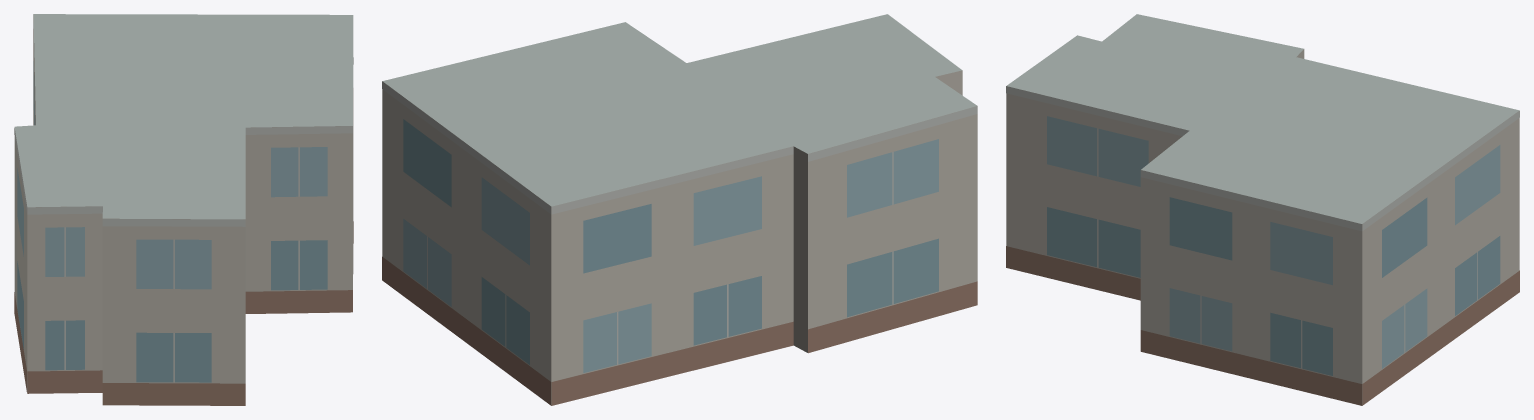
File: survey-upis-32744798.glb
The picture shows the model from 3 angles, left to right: view 1: azimuth 30°, elevation 25°; view 2: azimuth 150°, elevation 25°; view 3: azimuth 270°, elevation 25°; orthographic projection. The views are drawn at different scales.
Visible parts, largest first — view 1: survey-upis-32744798.tmp; view 2: survey-upis-32744798.tmp; view 3: survey-upis-32744798.tmp.
Part boxes in pixels (box(x1,y1,x2,y2)): survey-upis-32744798.tmp: box(14, 14, 353, 405); survey-upis-32744798.tmp: box(382, 14, 977, 405); survey-upis-32744798.tmp: box(1006, 14, 1519, 405).
Size of the model in its own units: 15.13 by 6.1 by 15.63.
